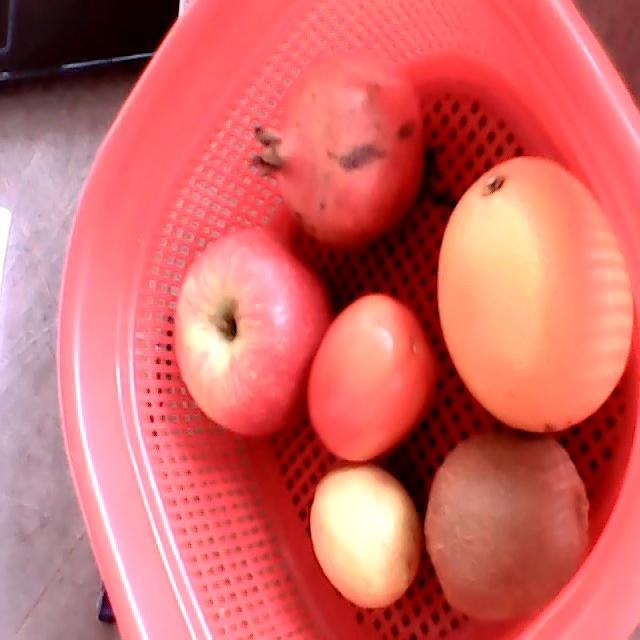apple: (174, 224, 331, 439)
kiwi: (425, 434, 591, 620)
lemon: (309, 463, 423, 609)
orange: (437, 156, 633, 432)
pomegranate: (249, 54, 425, 248)
tomato: (306, 293, 436, 462)
